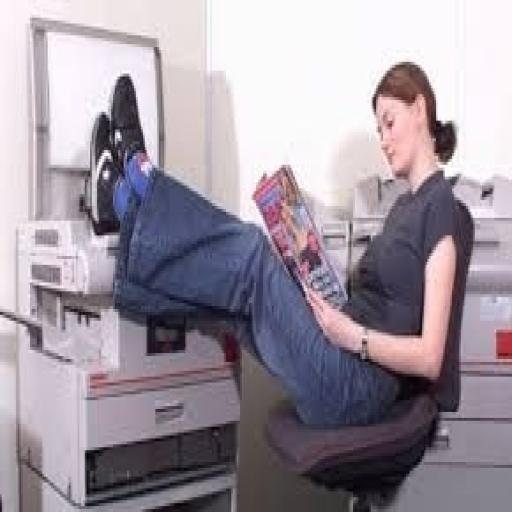sitting: (88, 56, 475, 430)
